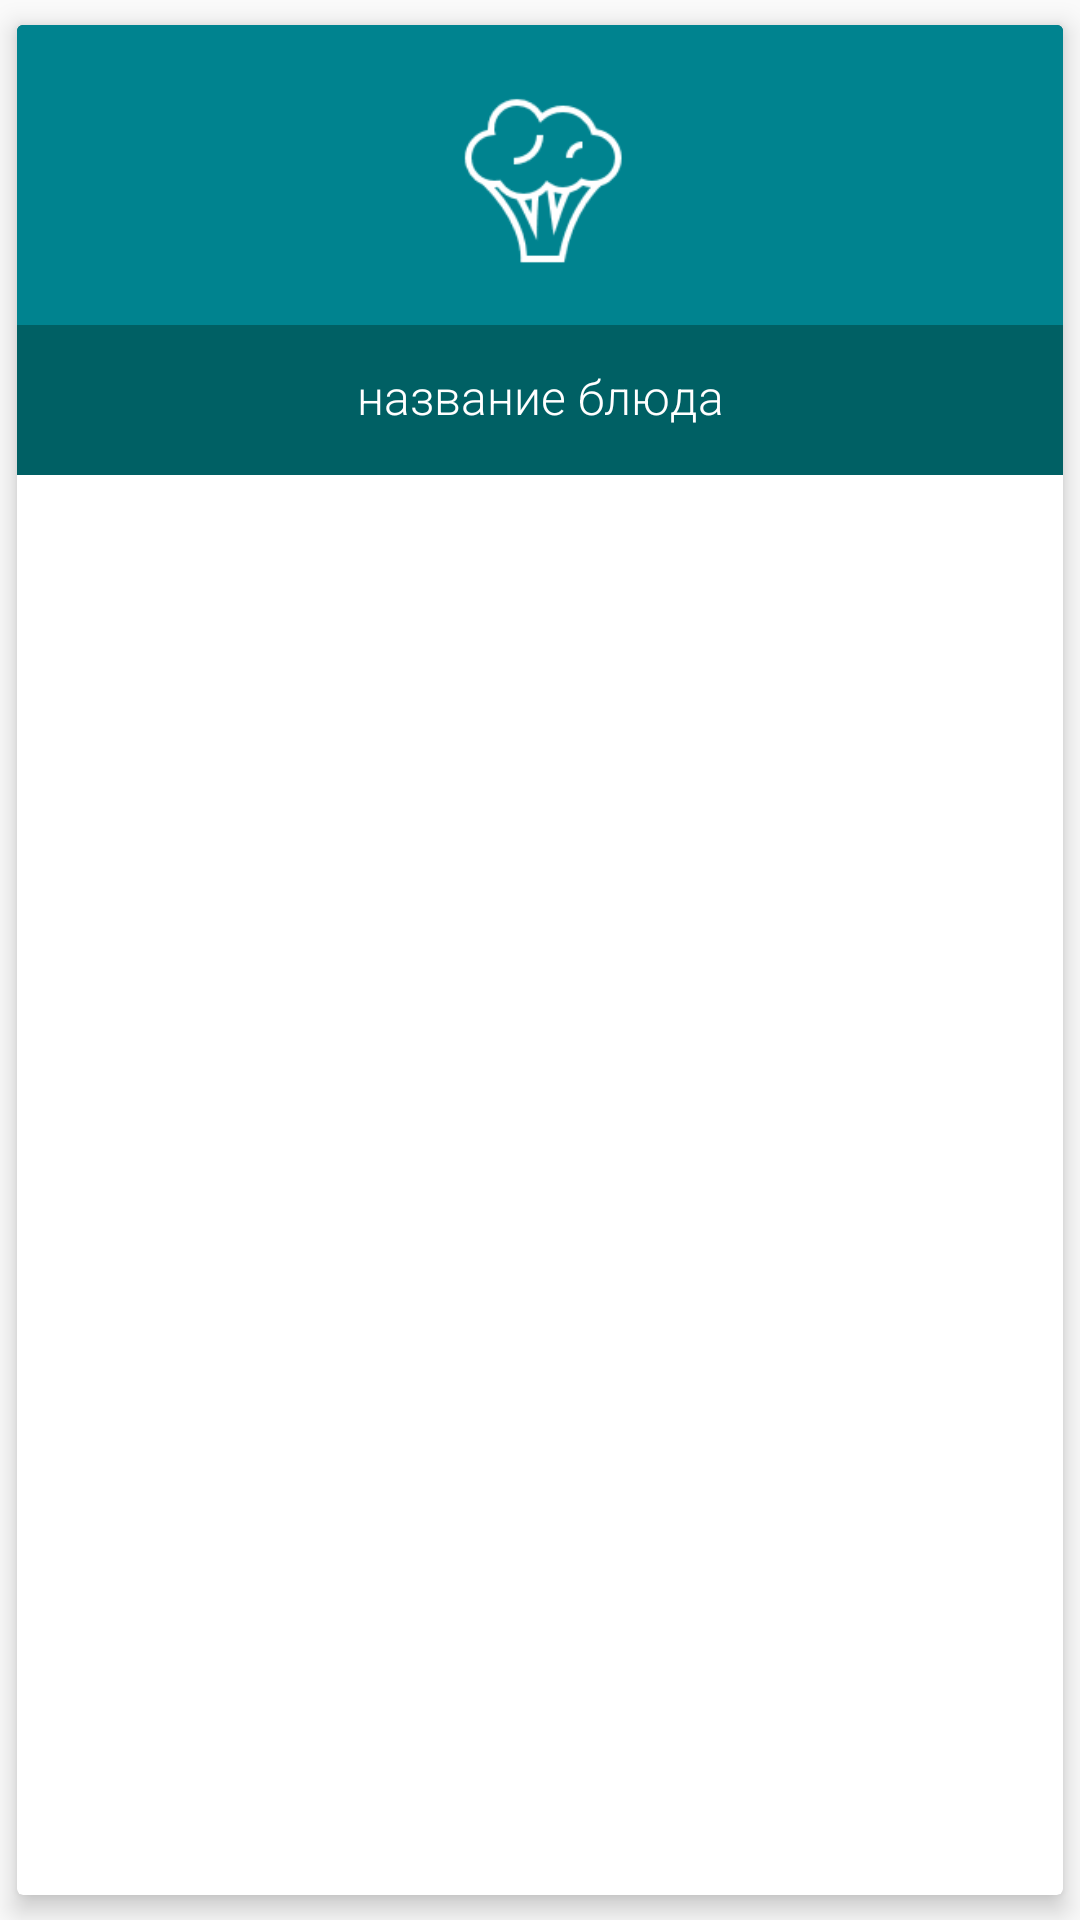

Named icons in this screenshot (1080x1920) and their bounding boxes, box(x1, y1, x2, y2):
im salad: box(464, 99, 622, 263)
